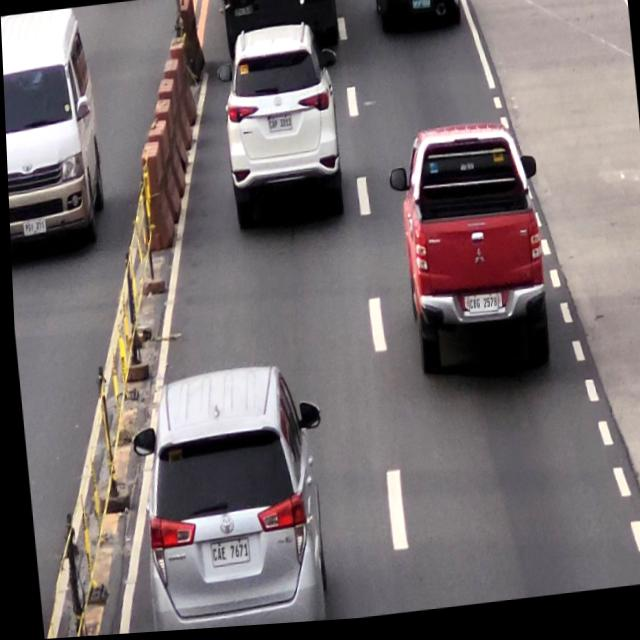Car: (136, 372, 322, 631), (396, 124, 549, 375), (220, 20, 344, 235), (375, 0, 463, 38)
License-Plate: (202, 537, 248, 573), (462, 299, 499, 323), (264, 113, 294, 136)
